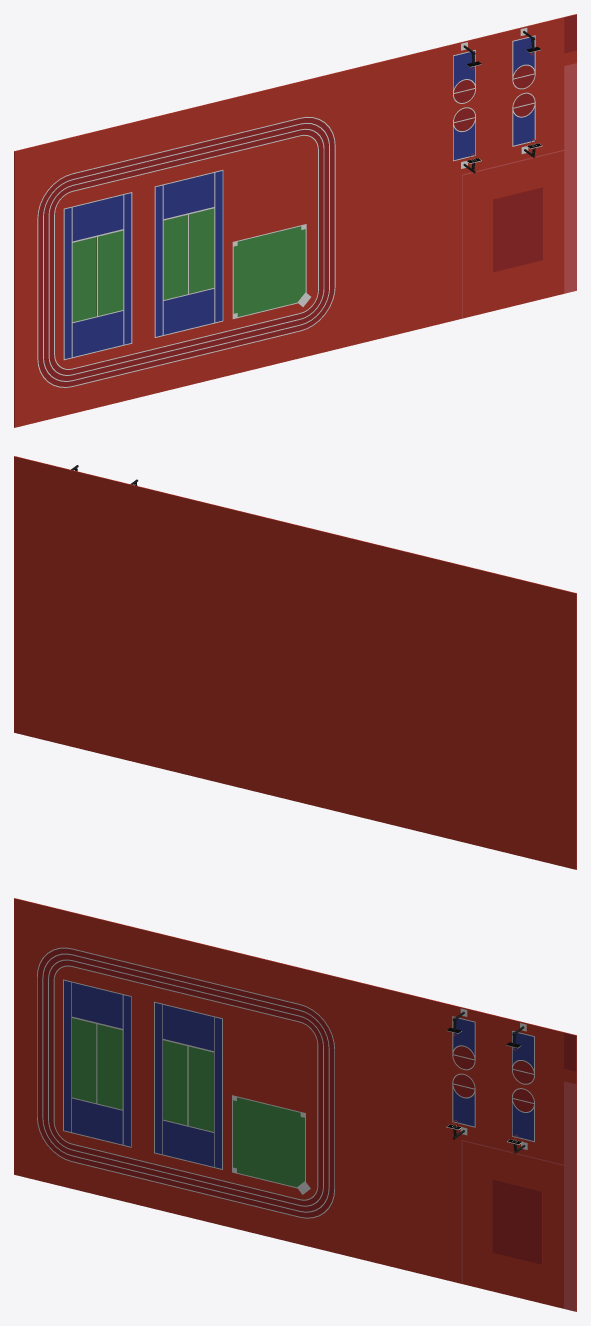
The model's file is PS122_outdoors v5.fbx.
3 renders of one model, top to bottom at view 1: azimuth 30°, elevation 25°; view 2: azimuth 150°, elevation 25°; view 3: azimuth 330°, elevation 25°, orthographic.
Parts seen in each view (by area): view 1: Body3; view 2: Body3; view 3: Body3.
Boxes of the visible parts, <box> form: Body3: <box>14,14,576,427</box>; Body3: <box>14,456,576,869</box>; Body3: <box>14,898,576,1311</box>.
Bounding box in the file's own units: 605 × 284 × 22.5.
